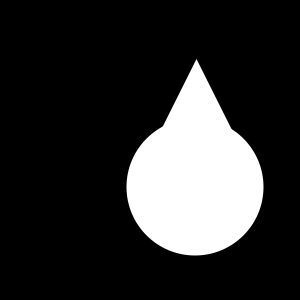rectangle: (126, 118, 264, 255)
triangle: (137, 59, 256, 178), (179, 114, 212, 147)
